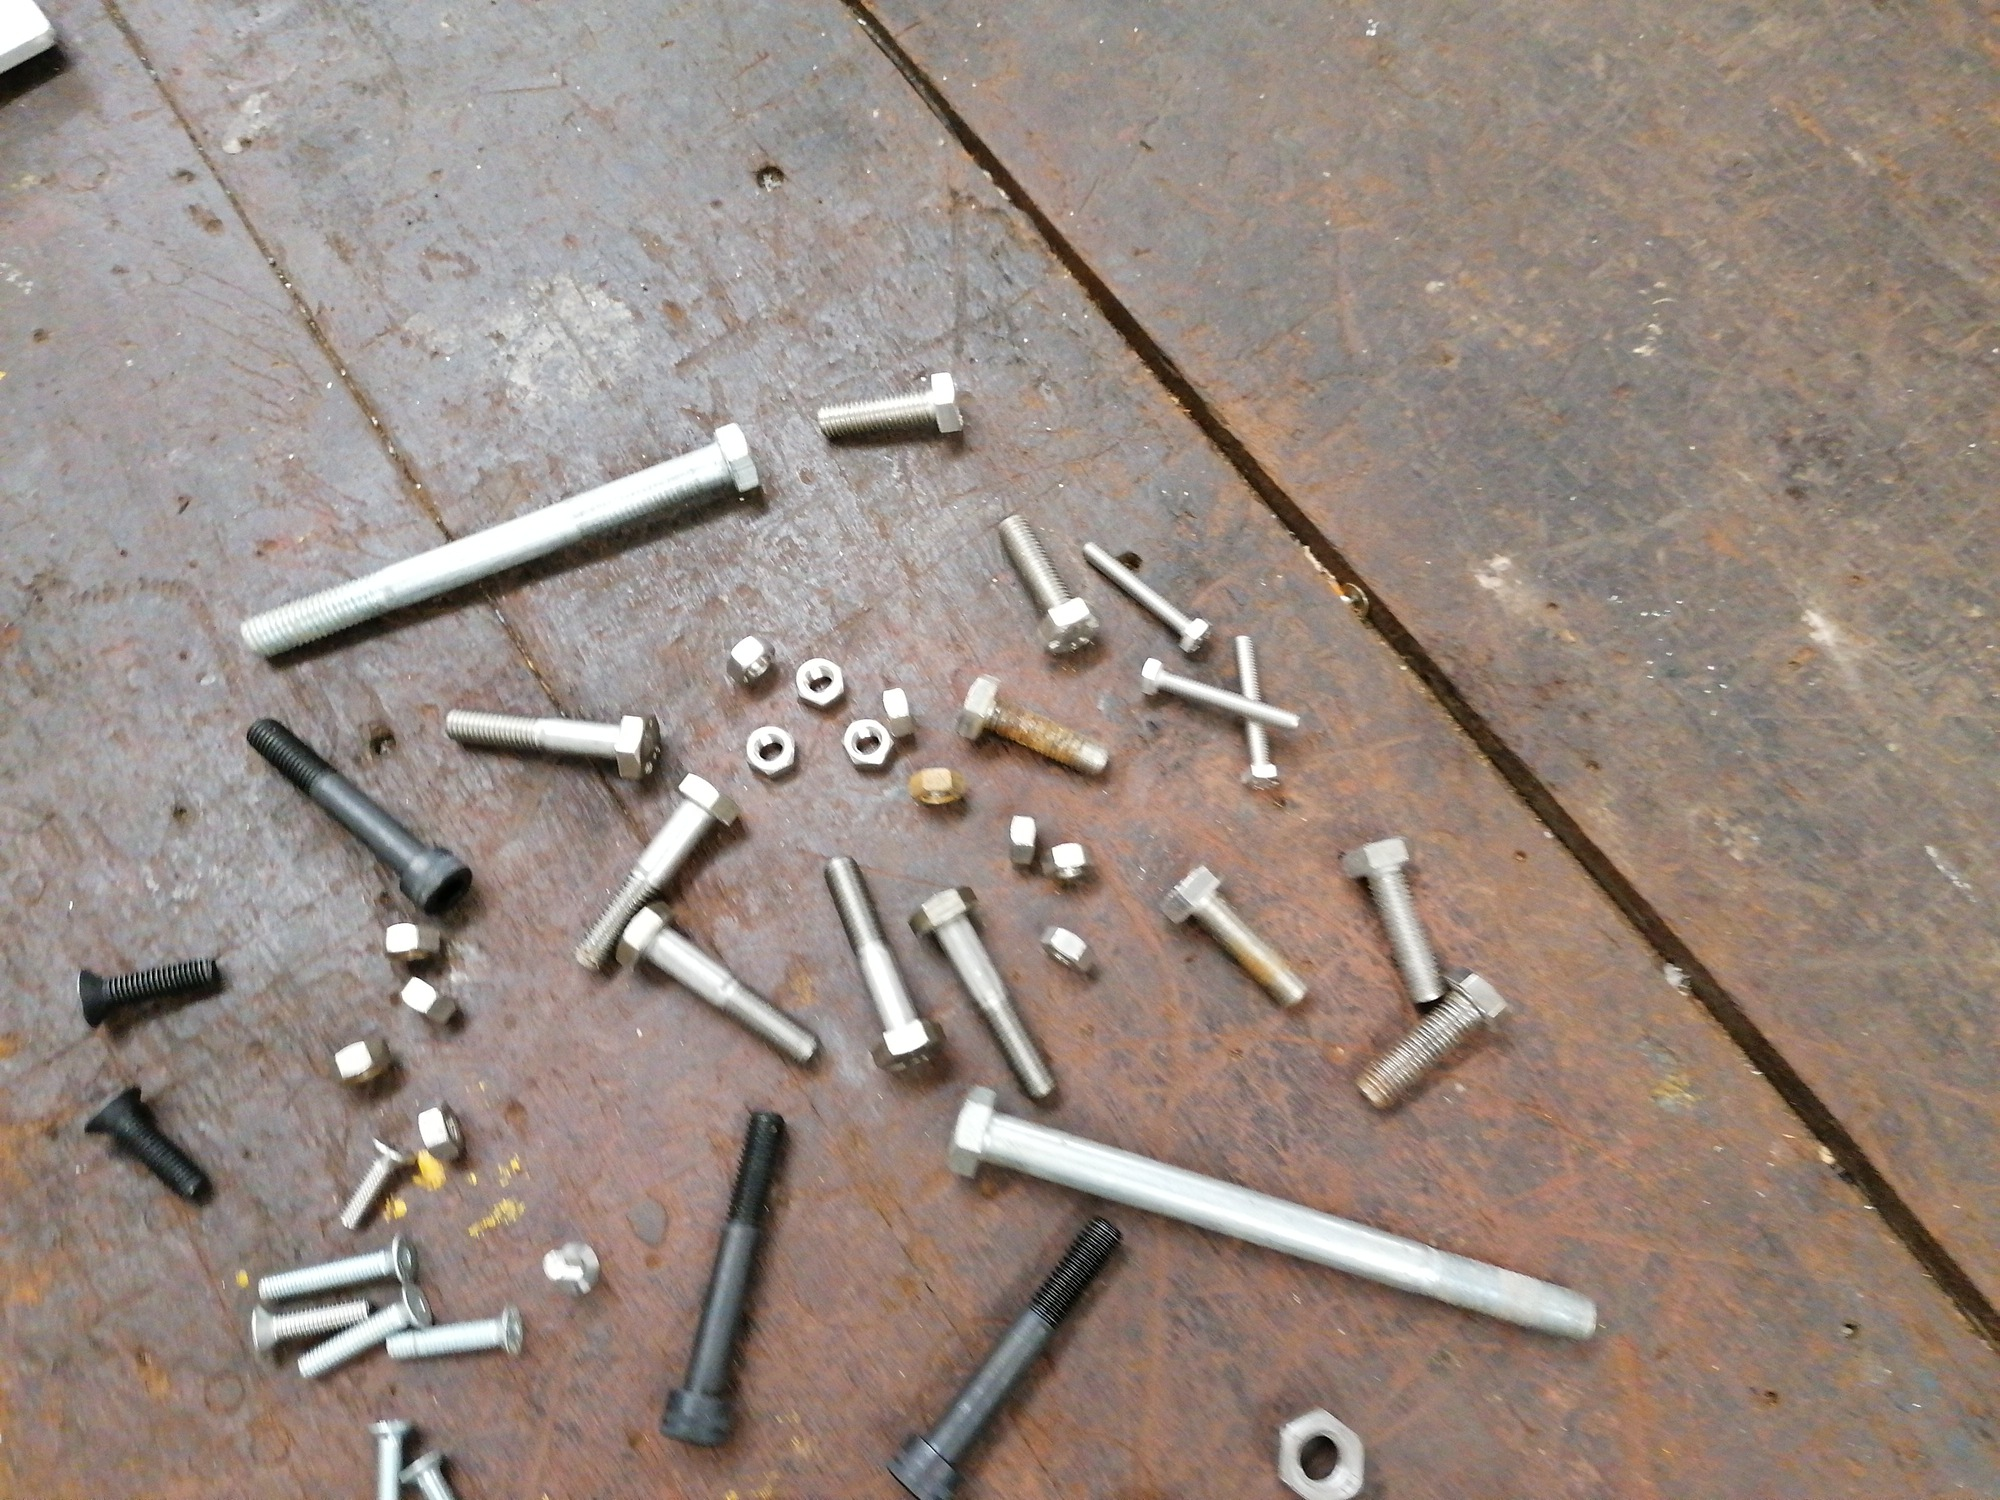bolt: (943, 1082, 1598, 1344), (236, 421, 761, 659), (885, 1213, 1126, 1500), (246, 717, 472, 915), (661, 1109, 789, 1446), (569, 772, 742, 975), (613, 898, 820, 1064), (909, 882, 1058, 1101), (822, 852, 946, 1075), (1353, 964, 1510, 1112), (1156, 863, 1309, 1008), (1335, 834, 1449, 1005), (443, 704, 663, 780), (954, 671, 1110, 775), (85, 1084, 213, 1204), (1079, 540, 1214, 652), (997, 512, 1099, 655), (296, 1279, 431, 1380), (1139, 655, 1302, 730), (257, 1231, 417, 1303), (74, 955, 224, 1029), (813, 370, 965, 438), (384, 1301, 524, 1360), (337, 1134, 417, 1231), (1235, 633, 1283, 791), (252, 1297, 373, 1353), (365, 1416, 414, 1500), (540, 1238, 602, 1297), (398, 1448, 458, 1498)
nut: (1269, 1404, 1367, 1498), (413, 1097, 468, 1161), (743, 722, 797, 782), (331, 1035, 394, 1086), (839, 717, 896, 772), (397, 974, 457, 1026), (794, 655, 846, 714), (726, 633, 776, 685), (1039, 923, 1094, 971), (381, 920, 441, 963), (906, 766, 965, 807), (1038, 841, 1094, 882), (879, 685, 913, 737), (1005, 811, 1036, 868)
